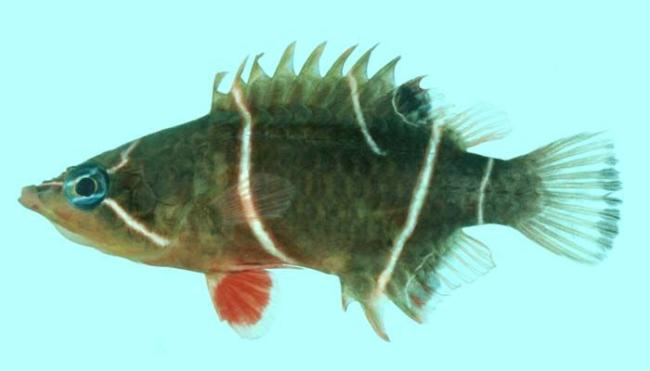fish: (17, 41, 624, 342)
